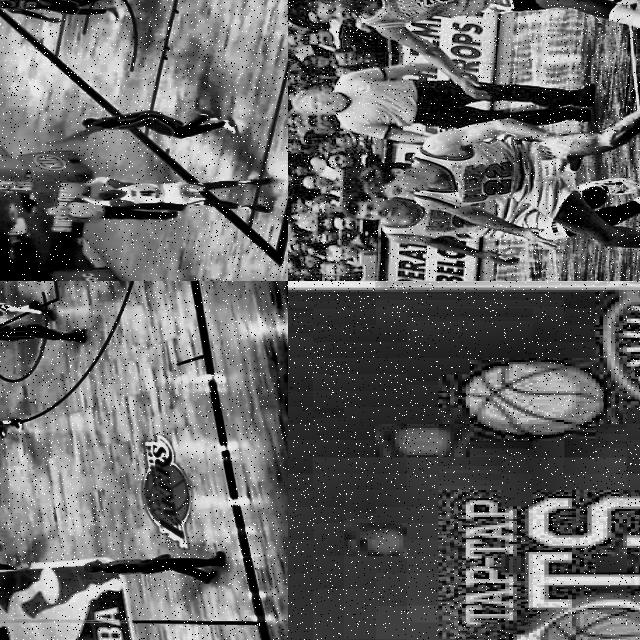Basketball: (462, 359, 605, 433), (66, 182, 87, 197)
